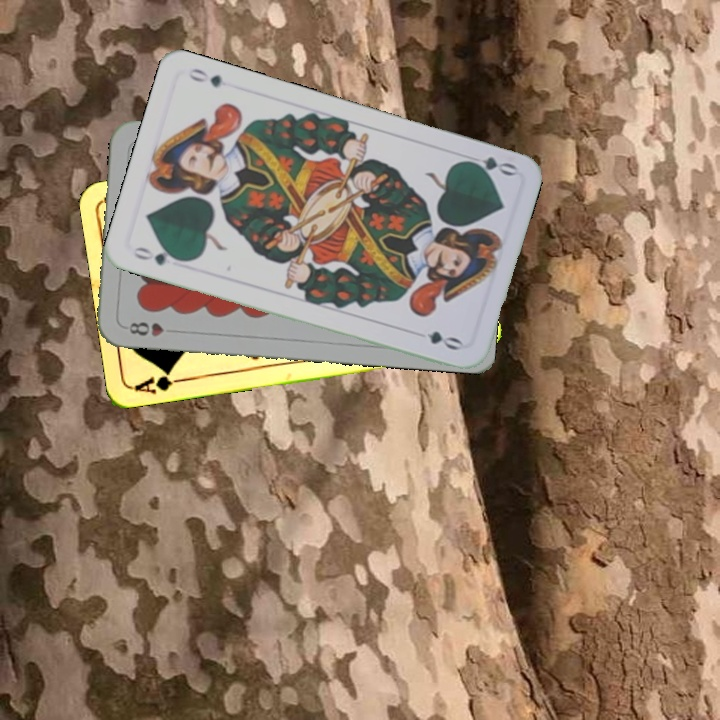GA: (131, 366, 190, 396)
GO: (459, 150, 519, 179), (129, 242, 187, 268)
H8: (125, 318, 167, 339)
